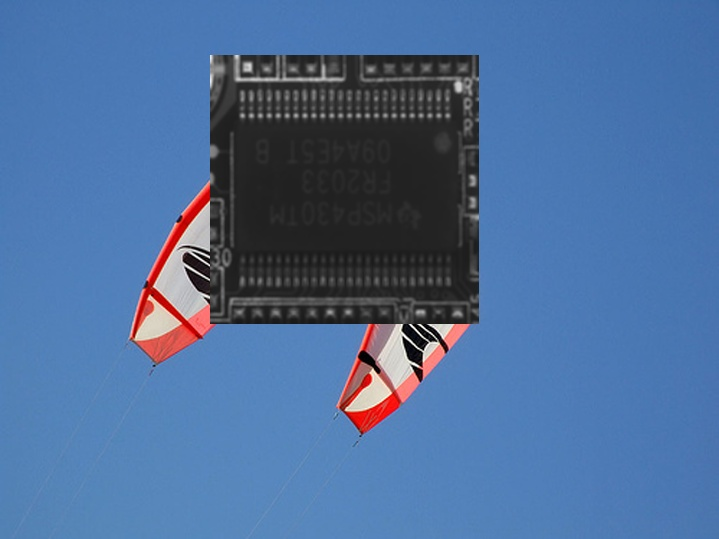PIN: (232, 246, 458, 291), (233, 83, 456, 124)
kite: (133, 123, 480, 441)
